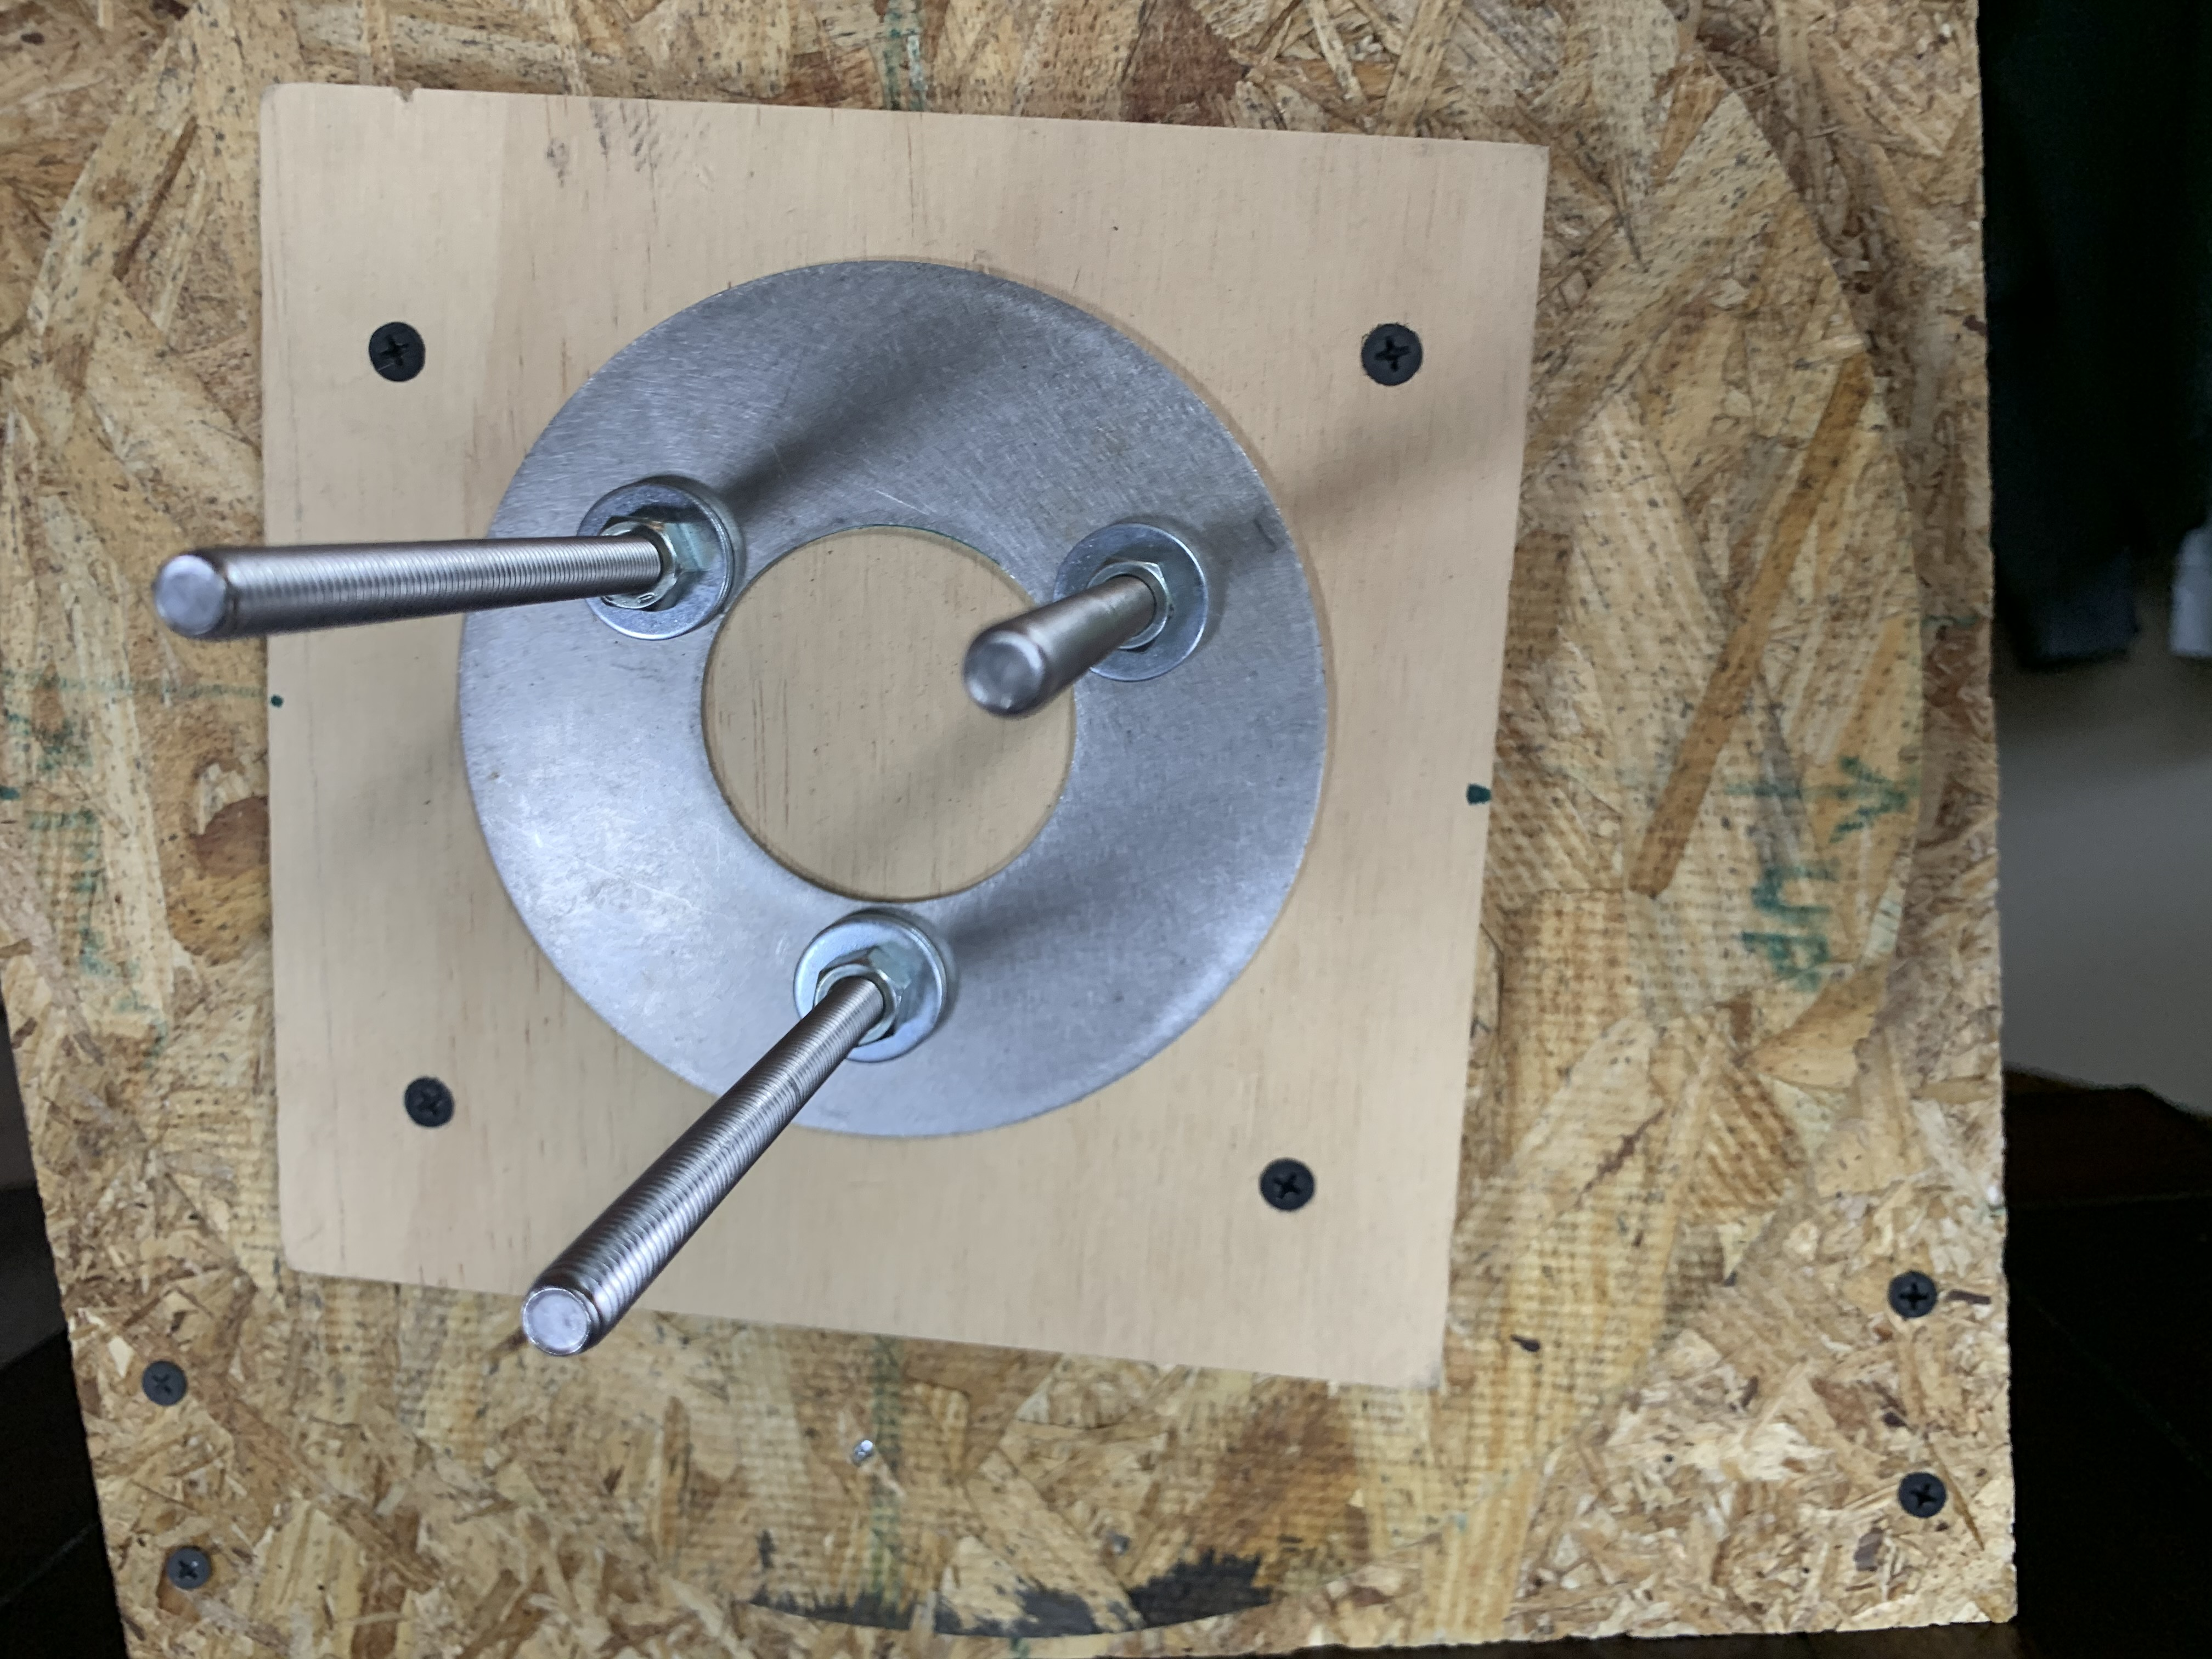bolt: (1043, 518, 1217, 685), (573, 476, 745, 640), (789, 908, 956, 1072)
